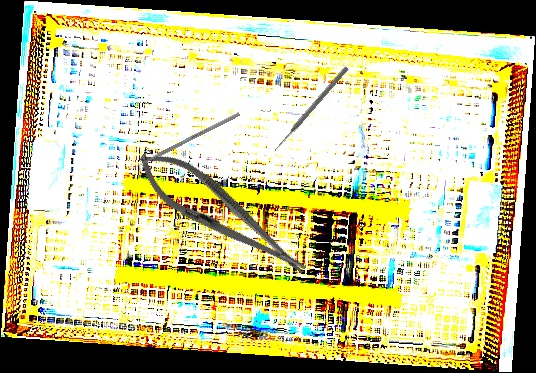Needle Holder: (126, 136, 318, 293)
Pusher: (271, 65, 350, 154), (127, 112, 241, 172)
